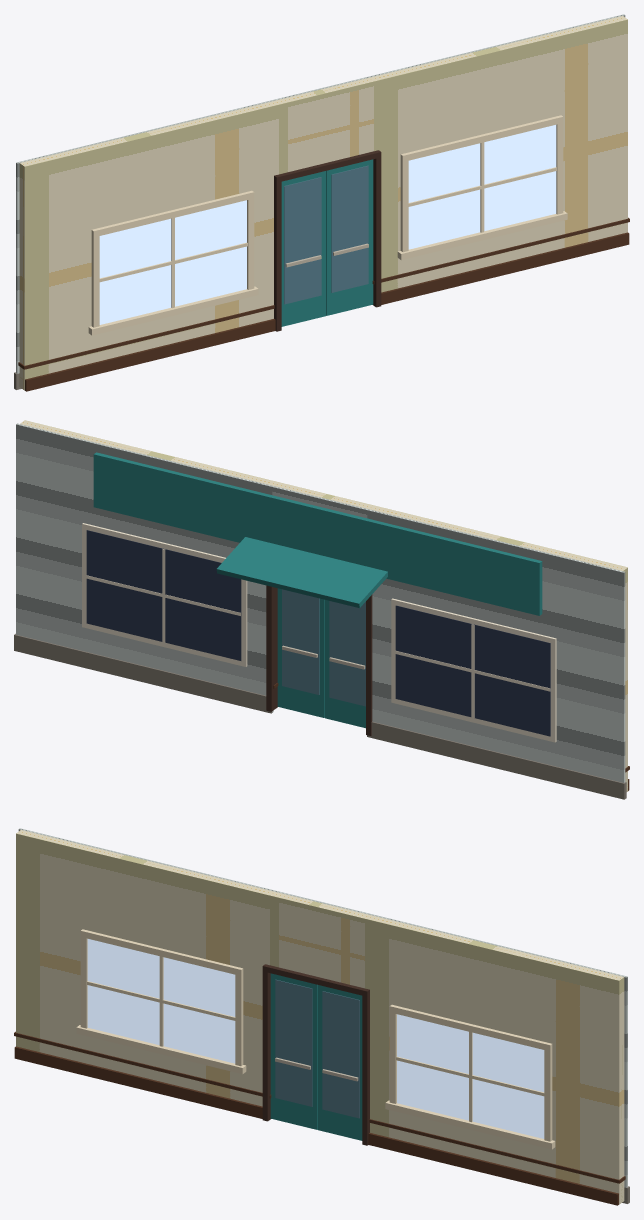
Rendered from front.glb.
3 renders of one model, top to bottom at view 1: azimuth 30°, elevation 25°; view 2: azimuth 150°, elevation 25°; view 3: azimuth 330°, elevation 25°, orthographic.
Parts seen in each view (by area): view 1: Box1, Box3, Box41, Box30, Box5, Box19, Box15, Box2, Box4, Box18, Box14, Box46 (+17 smaller); view 2: Box6, Box8, Box44, Box23, Box34, Box45, Box7, Box9, Box19, Box15, Box22, Box33 (+10 smaller); view 3: Box3, Box1, Box30, Box41, Box5, Box15, Box19, Box4, Box2, Box14, Box18, Box38 (+17 smaller).
Boxes of the visible parts, <box> form: Box1: <box>19,101,278,390</box>; Box3: <box>369,16,627,292</box>; Box41: <box>408,125,556,249</box>; Box30: <box>99,200,246,324</box>; Box5: <box>274,78,373,174</box>; Box19: <box>331,165,368,292</box>; Box15: <box>284,177,321,304</box>; Box2: <box>25,319,275,391</box>; Box4: <box>381,232,629,304</box>; Box18: <box>326,159,373,315</box>; Box14: <box>281,171,325,326</box>; Box46: <box>19,321,225,389</box>; Box6: <box>367,509,625,782</box>; Box8: <box>16,423,273,712</box>; Box44: <box>93,452,542,615</box>; Box23: <box>395,605,550,736</box>; Box34: <box>86,530,241,660</box>; Box45: <box>216,537,387,608</box>; Box7: <box>367,721,626,799</box>; Box9: <box>14,633,272,713</box>; Box19: <box>282,589,319,694</box>; Box15: <box>329,601,365,706</box>; Box22: <box>391,598,556,742</box>; Box33: <box>82,523,247,666</box>; Box3: <box>365,915,624,1204</box>; Box1: <box>16,830,274,1106</box>; Box30: <box>87,939,235,1063</box>; Box41: <box>397,1014,544,1138</box>; Box5: <box>270,892,369,988</box>; Box15: <box>275,979,312,1106</box>; Box19: <box>322,991,359,1118</box>; Box4: <box>368,1133,618,1205</box>; Box2: <box>14,1046,262,1118</box>; Box14: <box>270,973,317,1129</box>; Box18: <box>318,985,362,1140</box>; Box38: <box>385,1100,555,1149</box>.
Size of the model in its own units: 10.27 by 3.64 by 1.22.
12 materials, 2 textured.
